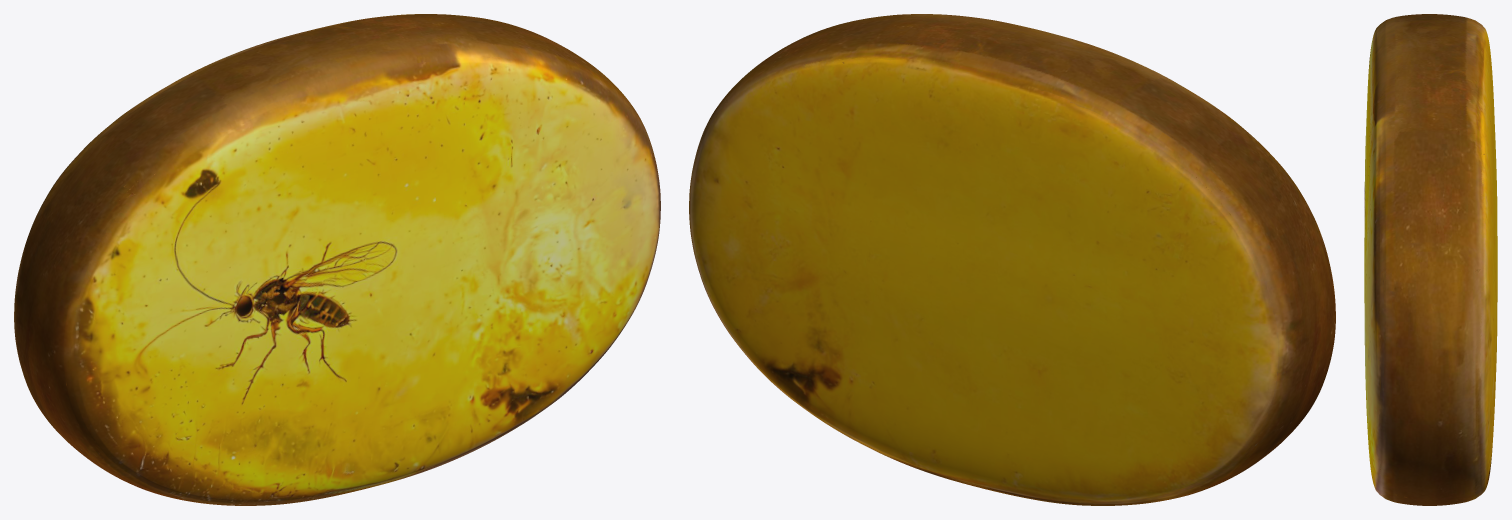
The model's file is amber.glb.
3 views of the same model, side by side, from view 1: azimuth 30°, elevation 25°; view 2: azimuth 150°, elevation 25°; view 3: azimuth 270°, elevation 25° (orthographic). The views are drawn at different scales.
Visible parts, largest first — view 1: amber; view 2: amber; view 3: amber.
Boxes of the visible parts, x1,y1,x2,y2 form: amber: [14, 14, 660, 505]; amber: [689, 14, 1335, 505]; amber: [1364, 14, 1497, 505].
Size of the model in its own units: 1 by 0.6866 by 0.2084.
Materials: 1 (1 with a texture image).
